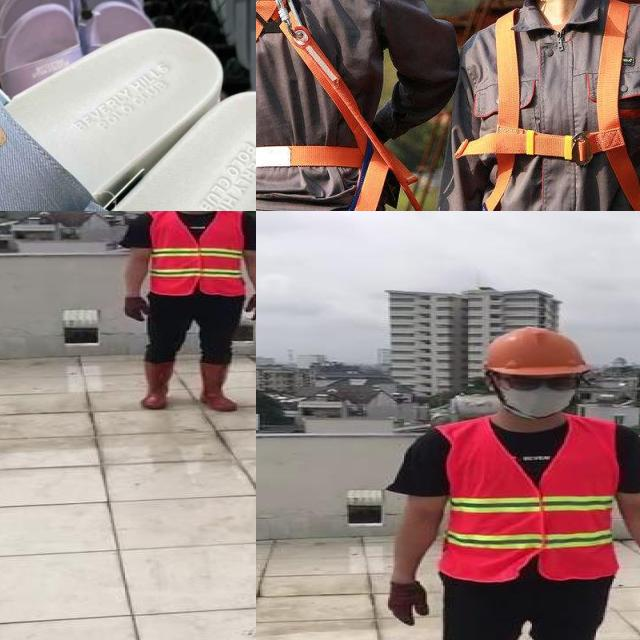Harness: (468, 0, 640, 211), (256, 0, 417, 211)
Sandals: (0, 7, 256, 211)
boots: (193, 361, 237, 411), (139, 361, 173, 409)
face_mask: (493, 370, 585, 420)
glasses: (499, 371, 590, 398)
hand_glove: (386, 582, 431, 623), (120, 296, 154, 323), (244, 295, 256, 320)
head_helmet: (471, 321, 598, 378)
person: (372, 322, 640, 640), (112, 211, 256, 416)
vest: (443, 418, 616, 582), (148, 211, 247, 296)
